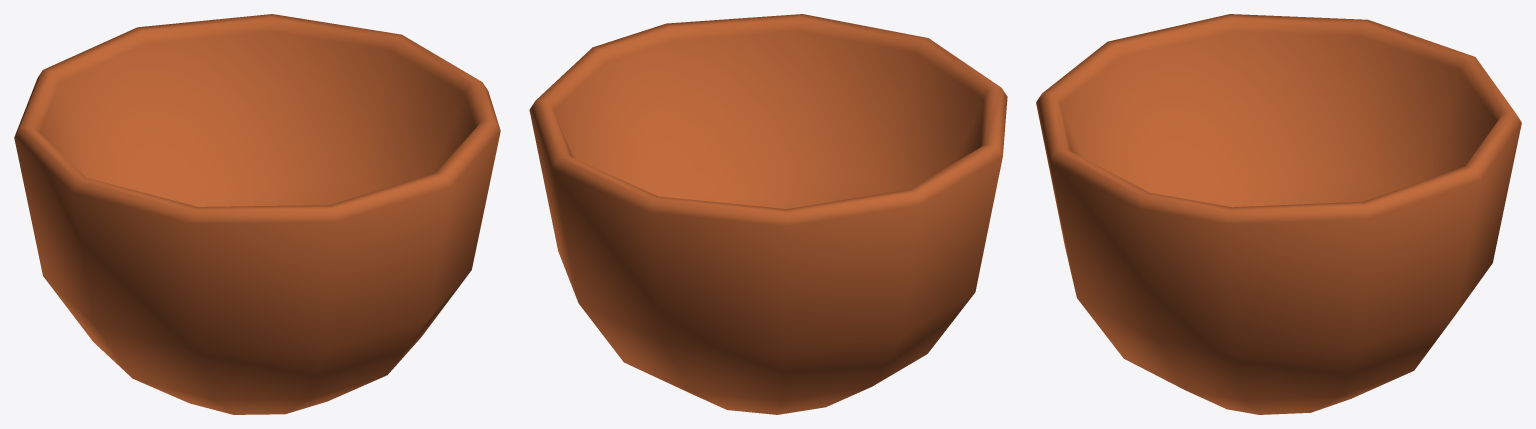
File: CauldronCollider.FBX
The picture shows the model from 3 angles, left to right: view 1: azimuth 30°, elevation 25°; view 2: azimuth 150°, elevation 25°; view 3: azimuth 270°, elevation 25°; orthographic projection.
Visible parts, largest first — view 1: CauldronCollider; view 2: CauldronCollider; view 3: CauldronCollider.
Boxes of the visible parts, bbox=[...] form: CauldronCollider: bbox=[14, 14, 500, 414]; CauldronCollider: bbox=[529, 14, 1007, 414]; CauldronCollider: bbox=[1036, 14, 1521, 414].
Size of the model in its own units: 98.71 by 63.57 by 99.68.
